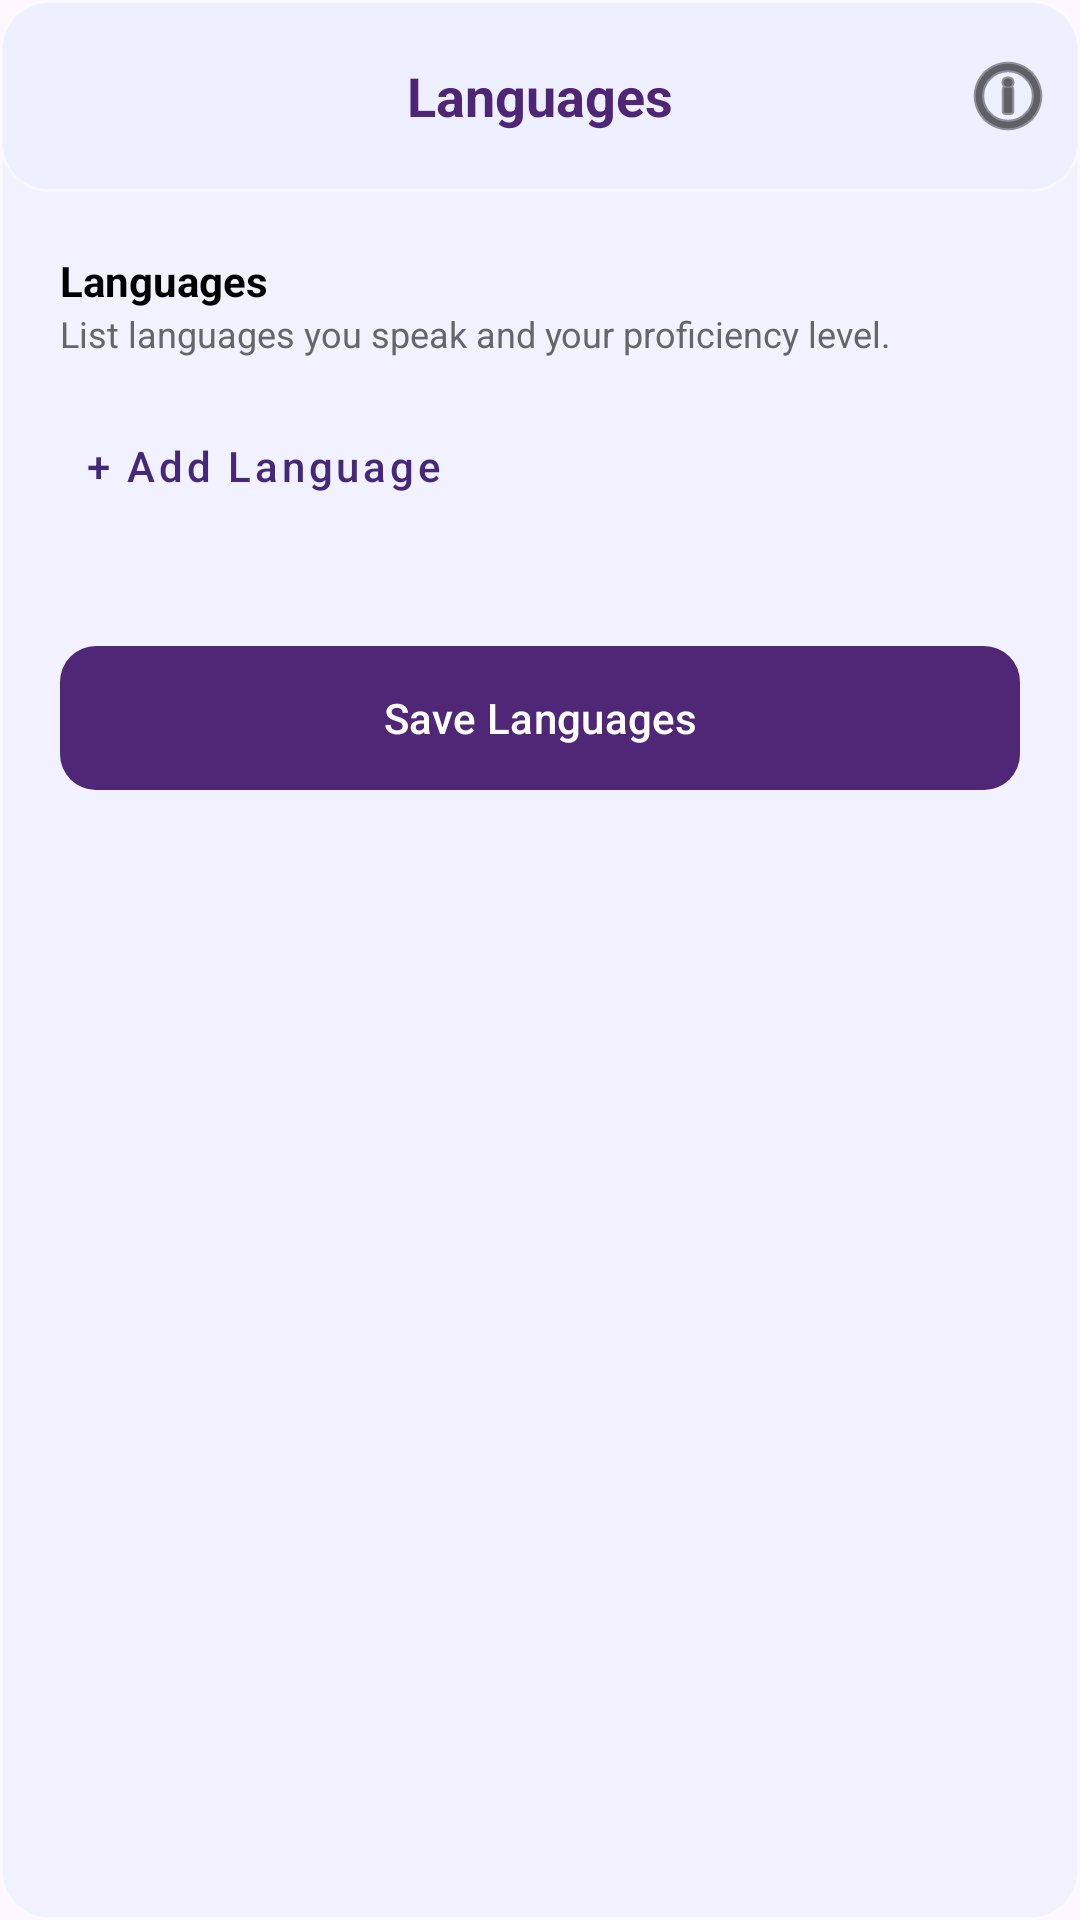

Named icons in this screenshot (1080 x 1920) and their bounding boxes, (x1, y1, x2, y2):
info details: (973, 61, 1043, 131)
